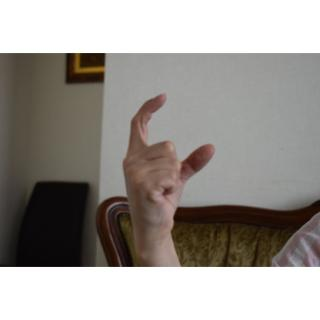DELL: (119, 87, 216, 242)
